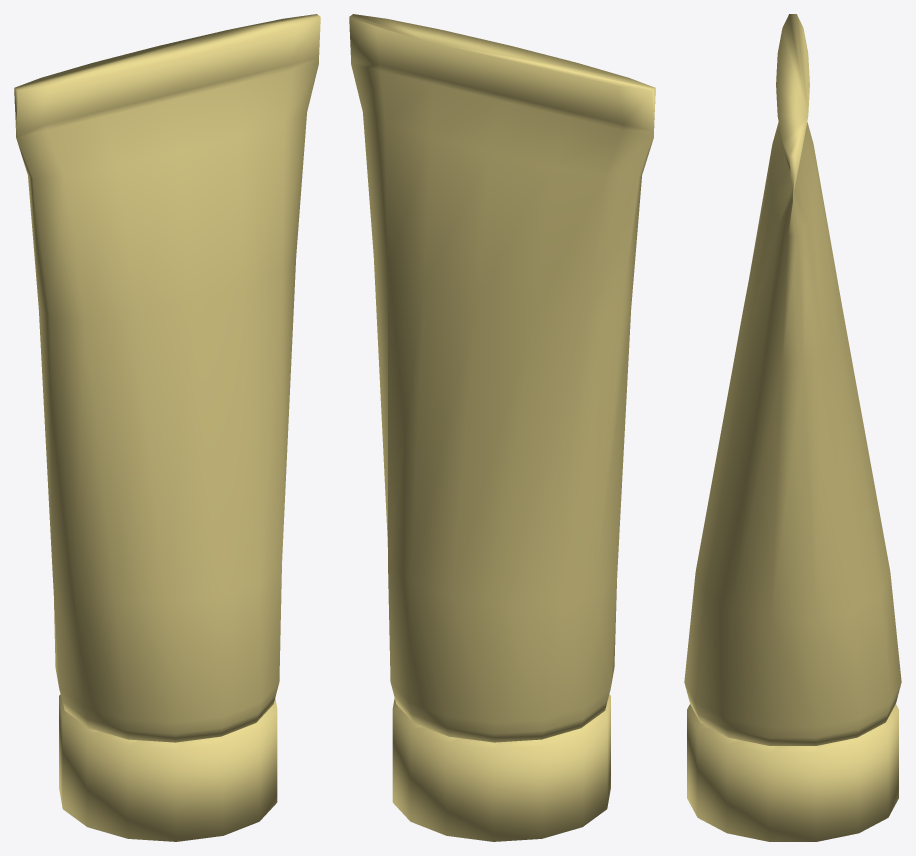
File: Bottle3.fbx
3 renders of one model, left to right at view 1: azimuth 30°, elevation 25°; view 2: azimuth 150°, elevation 25°; view 3: azimuth 270°, elevation 25°, orthographic. The views are drawn at different scales.
Parts seen in each view (by area): view 1: Bottle3, Cap; view 2: Bottle3, Cap; view 3: Bottle3, Cap.
Boxes of the visible parts, x1=… form: Bottle3: x1=14, y1=14, x2=320, y2=742; Cap: x1=59, y1=694, x2=277, y2=841; Bottle3: x1=349, y1=14, x2=655, y2=742; Cap: x1=392, y1=694, x2=610, y2=841; Bottle3: x1=684, y1=14, x2=901, y2=745; Cap: x1=687, y1=704, x2=898, y2=841.
Size of the model in its own units: 6.94 by 16.44 by 4.5.
